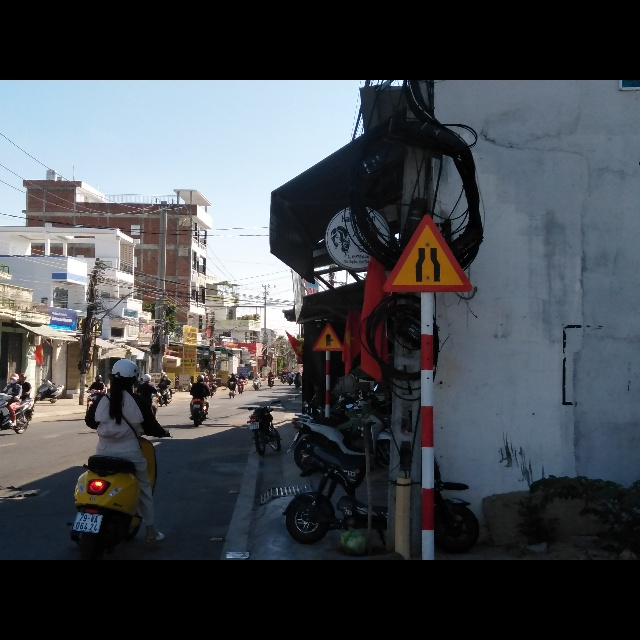Giao nhau với đường không ưu tiên: (308, 324, 342, 352)
Đường bị hẹp cả hai bên: (383, 211, 473, 293)
